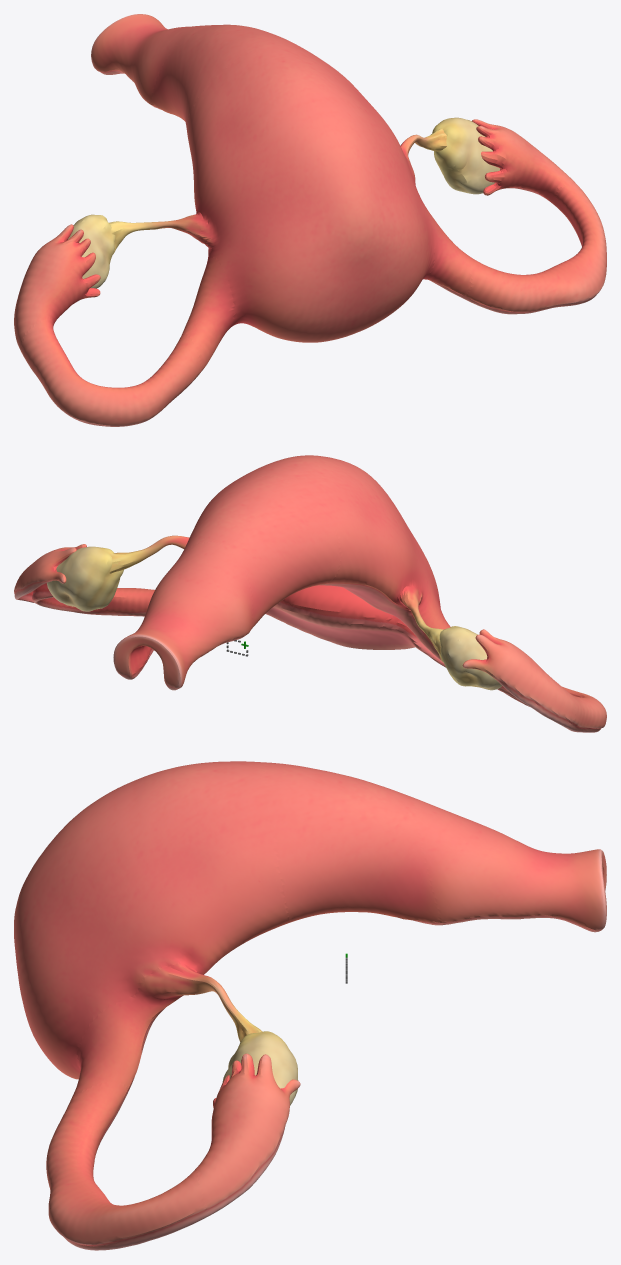
The model's file is Detach.fbx.
3 views of the same model, one above another, from view 1: azimuth 30°, elevation 25°; view 2: azimuth 150°, elevation 25°; view 3: azimuth 270°, elevation 25° (orthographic). The views are drawn at different scales.
Visible parts, largest first — view 1: Uterus1, Vagina18, FallopianTube1_1, FallopianTube2_1, model:object_1, Cervix2, Vagina1; view 2: Uterus1, Vagina1, Cervix2, Vagina18, model:object_1, FallopianTube2_1, FallopianTube1_1, Cervix1; view 3: Uterus1, Cervix2, Vagina18, Vagina1, FallopianTube2_1, model:object_1, Cervix1.
Part boxes in pixels (x1,y1,x2,y2): Uterus1: [187, 42, 437, 342]; Vagina18: [14, 119, 580, 376]; FallopianTube1_1: [16, 292, 199, 426]; FallopianTube2_1: [468, 186, 606, 314]; model:object_1: [68, 117, 500, 288]; Cervix2: [151, 24, 292, 123]; Vagina1: [91, 14, 213, 107]; Uterus1: [209, 455, 440, 654]; Vagina1: [113, 541, 253, 690]; Cervix2: [180, 482, 331, 630]; Vagina18: [14, 535, 569, 725]; model:object_1: [47, 546, 501, 690]; FallopianTube2_1: [21, 588, 154, 616]; FallopianTube1_1: [497, 682, 606, 732]; Cervix1: [206, 477, 339, 584]; Uterus1: [14, 761, 293, 1079]; Cervix2: [278, 763, 442, 925]; Vagina18: [63, 968, 300, 1216]; Vagina1: [414, 798, 606, 932]; FallopianTube2_1: [46, 1095, 207, 1250]; model:object_1: [222, 1031, 298, 1105]; Cervix1: [268, 762, 300, 921].
Bounding box in the file's own units: 409 × 179 × 293.
